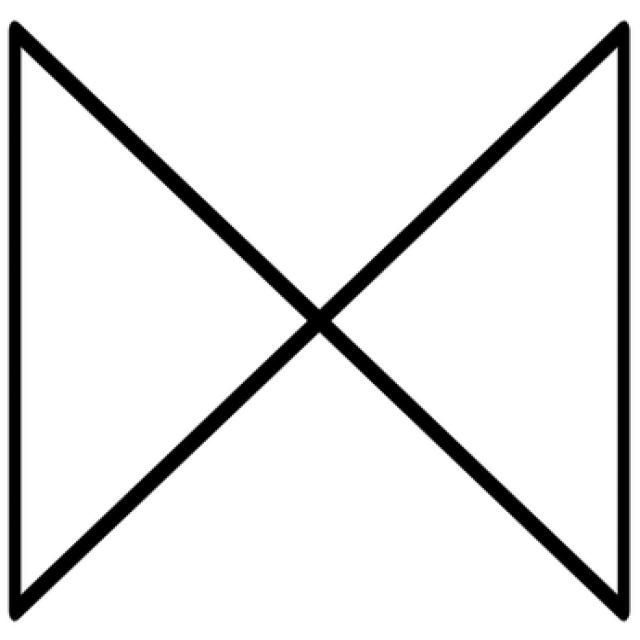Gate valve: (15, 24, 625, 609)
